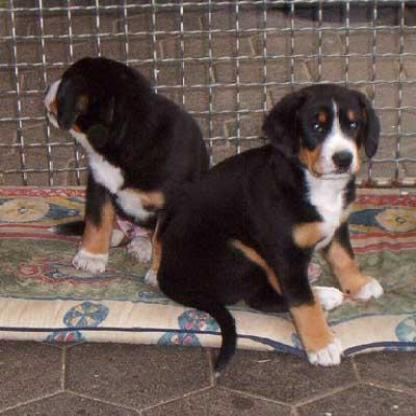EntleBucher: (148, 80, 382, 366), (39, 53, 213, 289)
